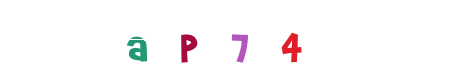4: (203, 0, 283, 80)
7: (193, 0, 273, 80)
A: (98, 0, 178, 80)
P: (190, 0, 270, 80)
